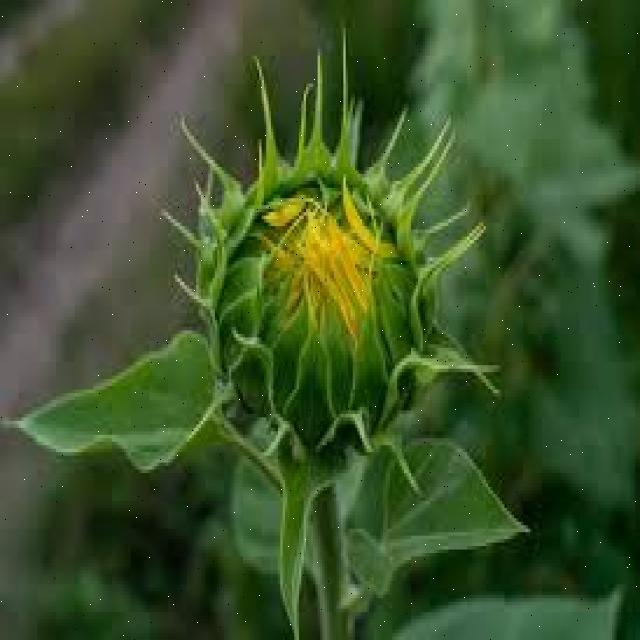Unbloomed: (185, 59, 478, 491)
